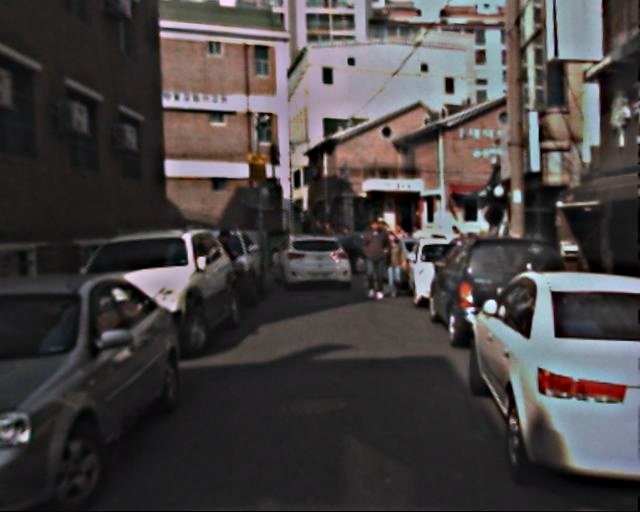person: (358, 220, 391, 301), (214, 230, 244, 303), (381, 230, 408, 296)
